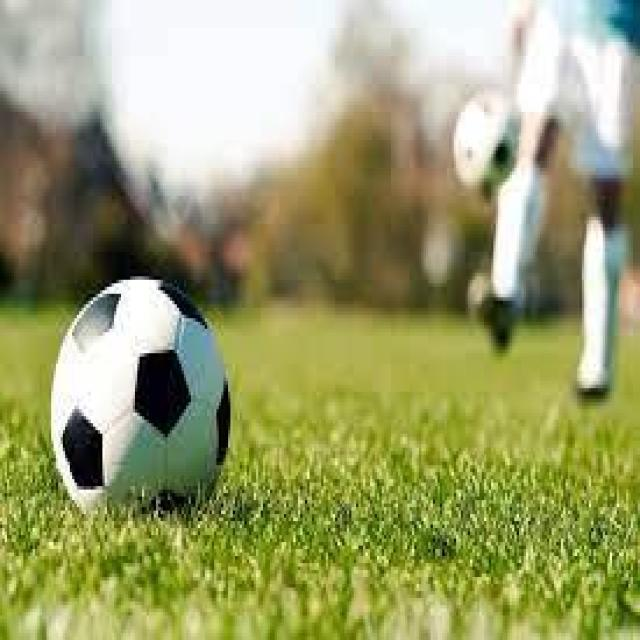Soccer Ball: (56, 283, 230, 504)
